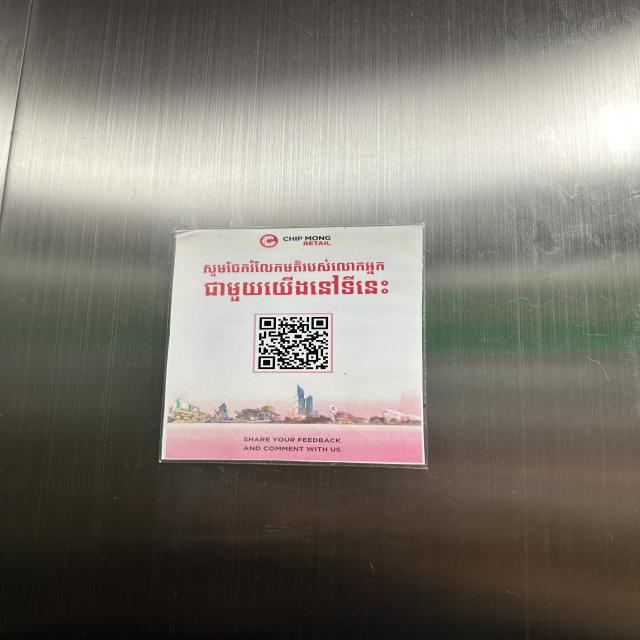Yolov11_80vkh: (196, 276, 391, 304), (198, 256, 389, 278)
